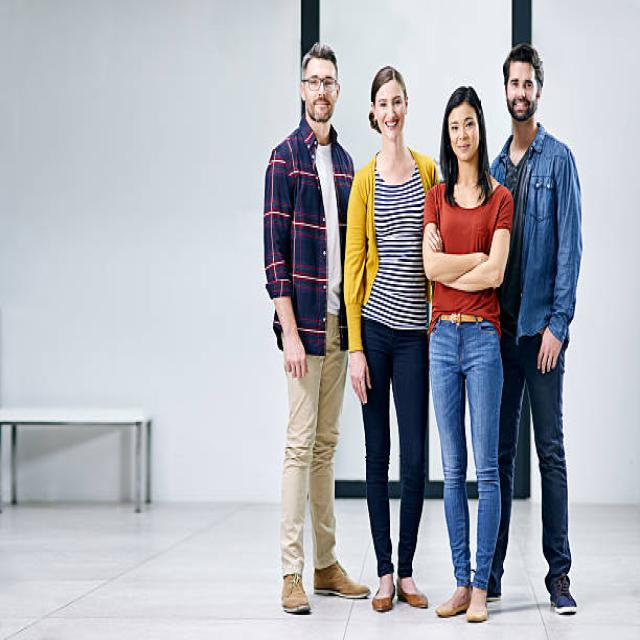Real human 2: (235, 26, 594, 640)
